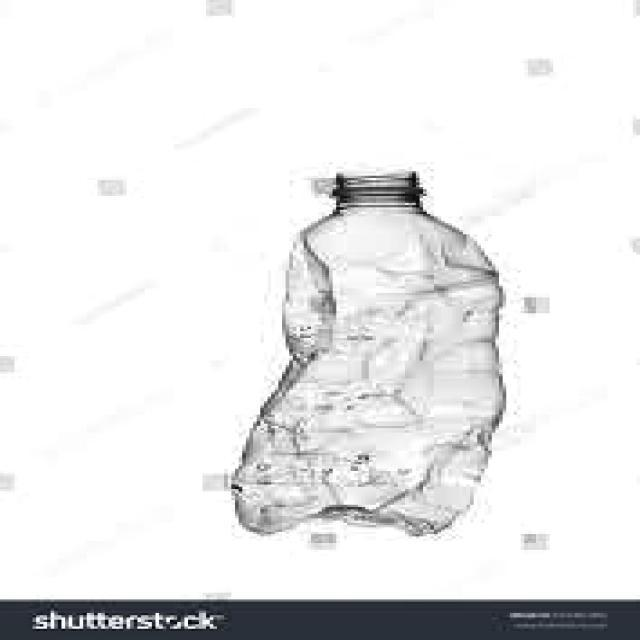bottle: (224, 151, 536, 543)
